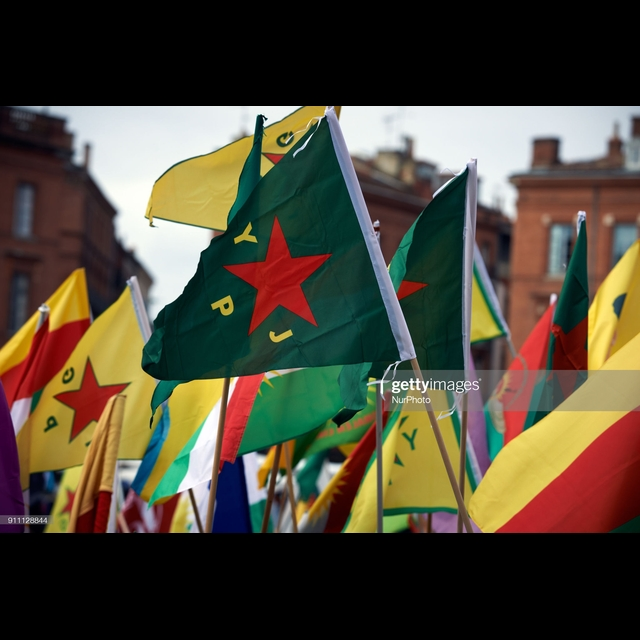YPG: (48, 365, 108, 451)
YPJ: (200, 221, 349, 355)
